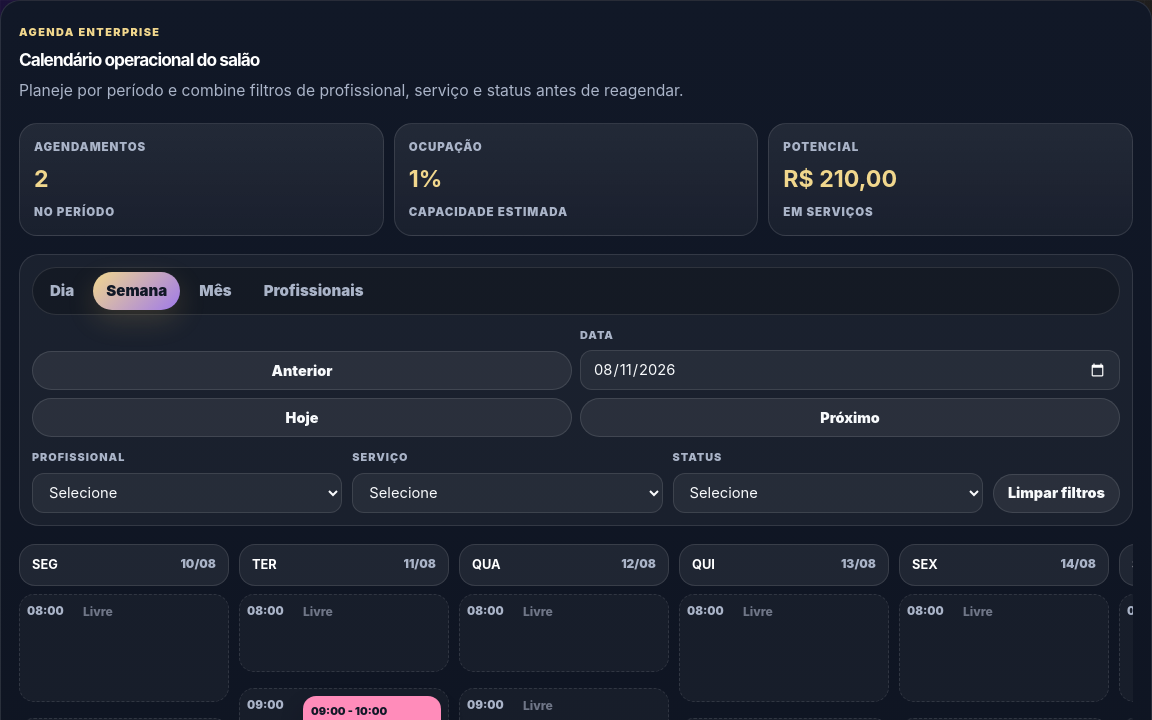
Test case: AgendaEnterprise › abre um dia específico a partir da visão mensal
Click the tab "Mês".
click(215, 291)  # box [186, 272, 245, 310]
(page scrolled)
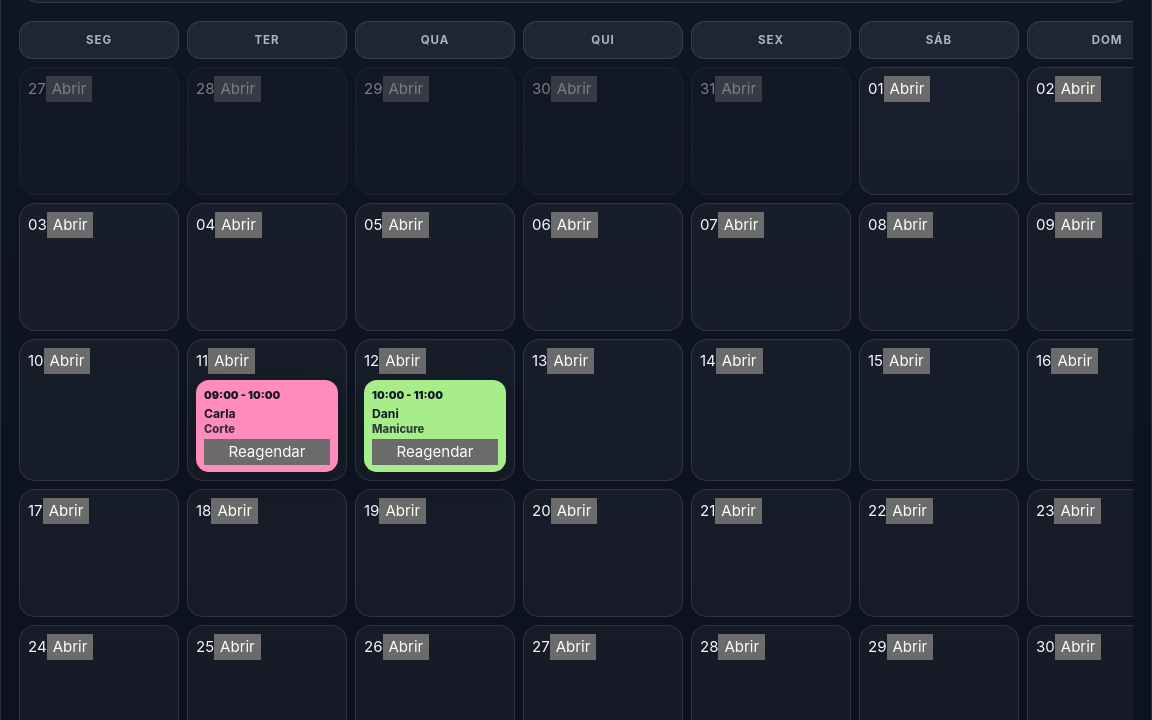
Click the button with aria-label "Abrir agenda de 2026-08-12".
click(403, 361)  # box [379, 348, 426, 374]
(page scrolled)
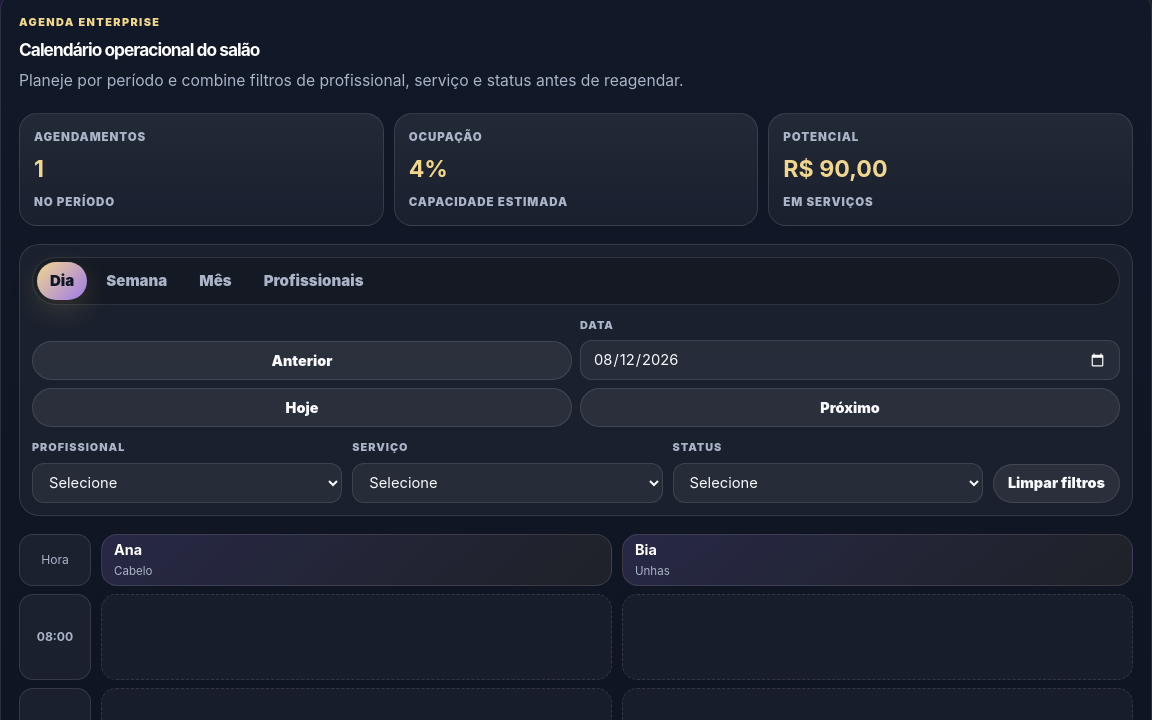
Check: the date field labelled "Data" holds "2026-08-12", box [580, 340, 1120, 380]
